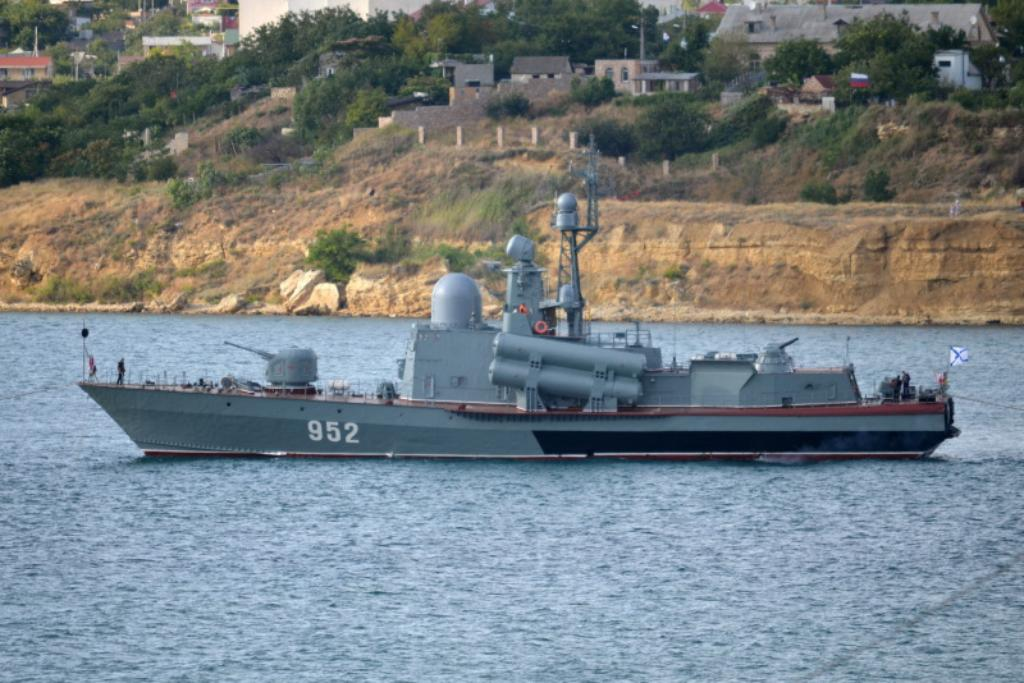Warship: (78, 136, 960, 458)
